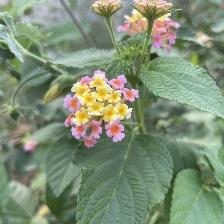common lanthana: (64, 70, 140, 151)
